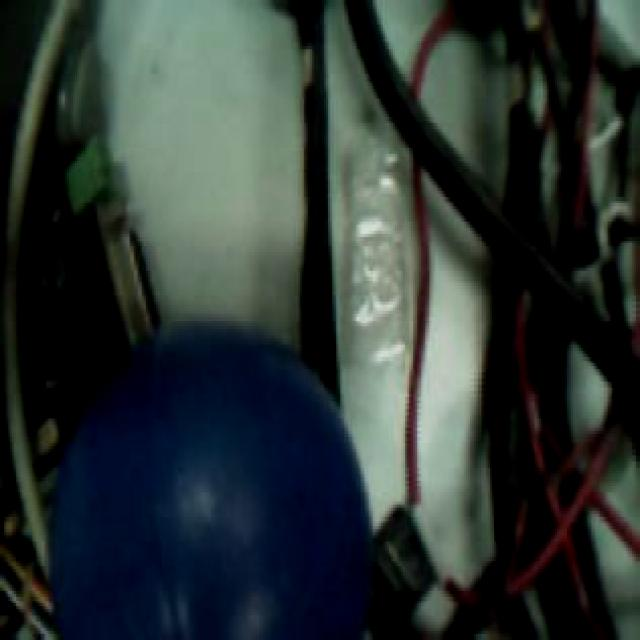BallPurple: (47, 319, 374, 640)
